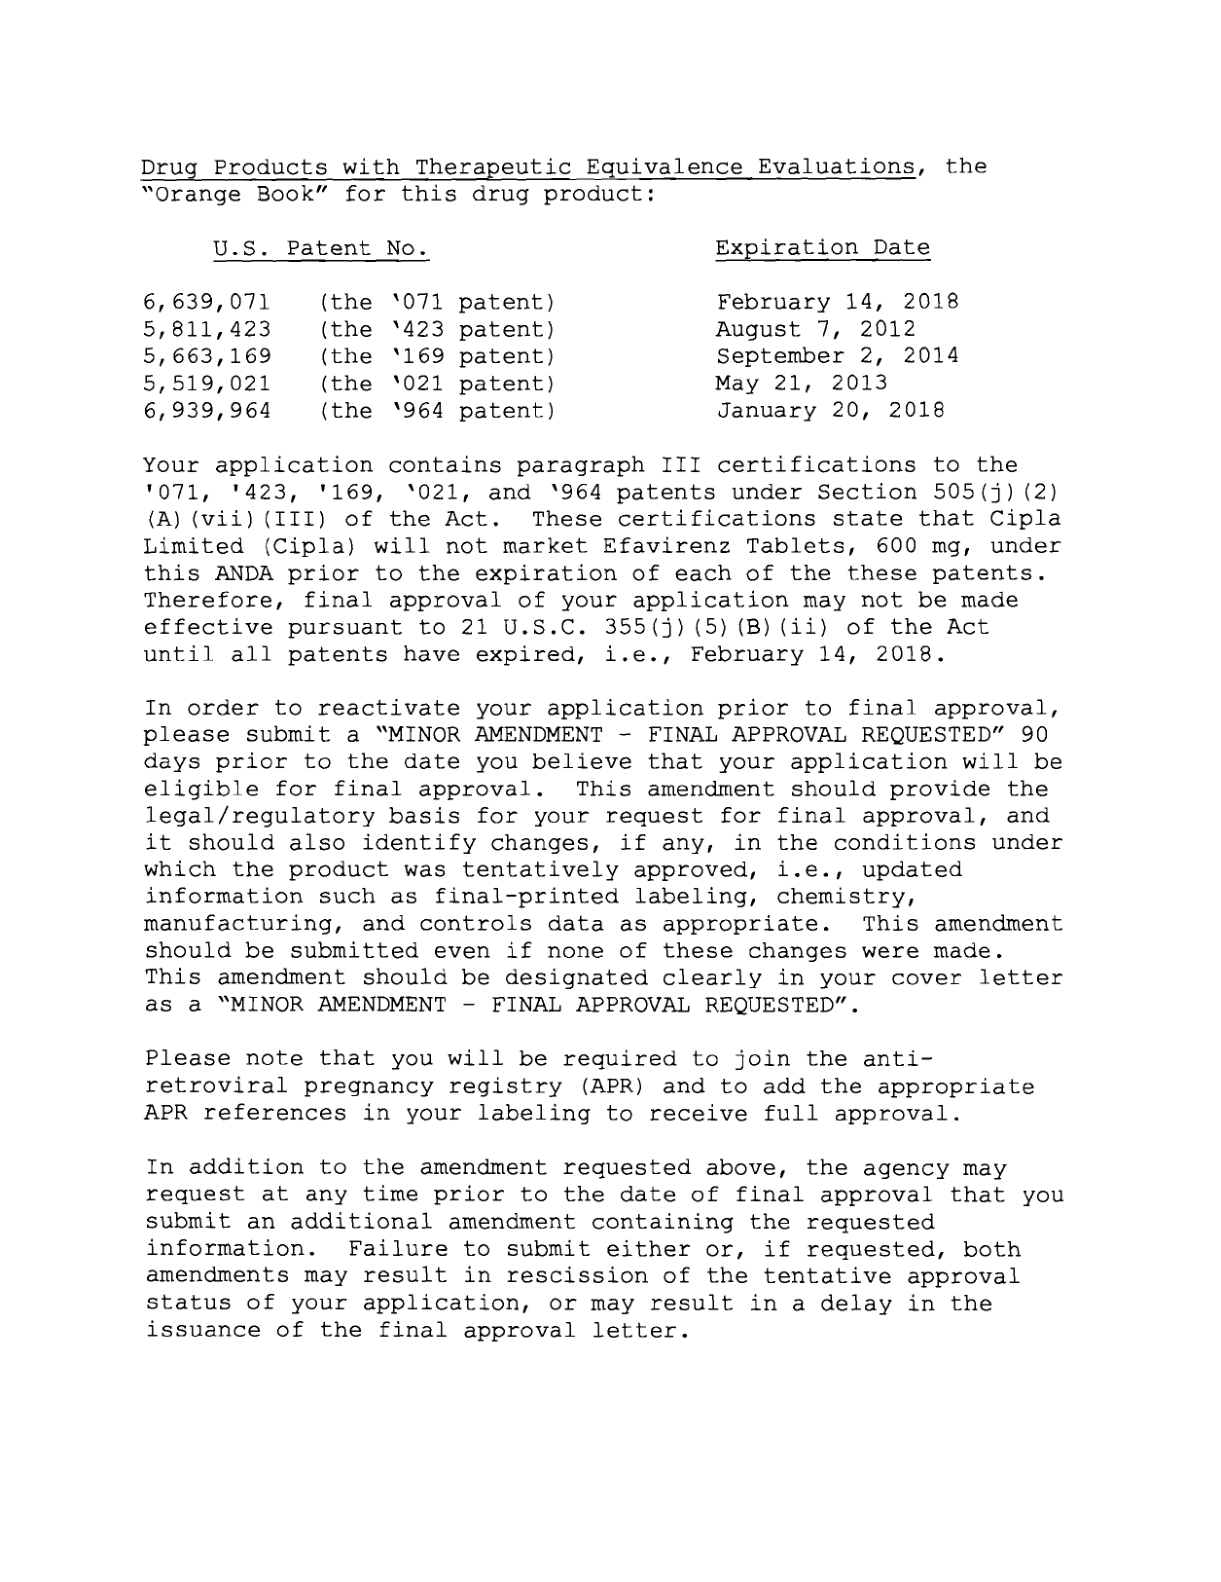nolines: (141, 238, 963, 422)
